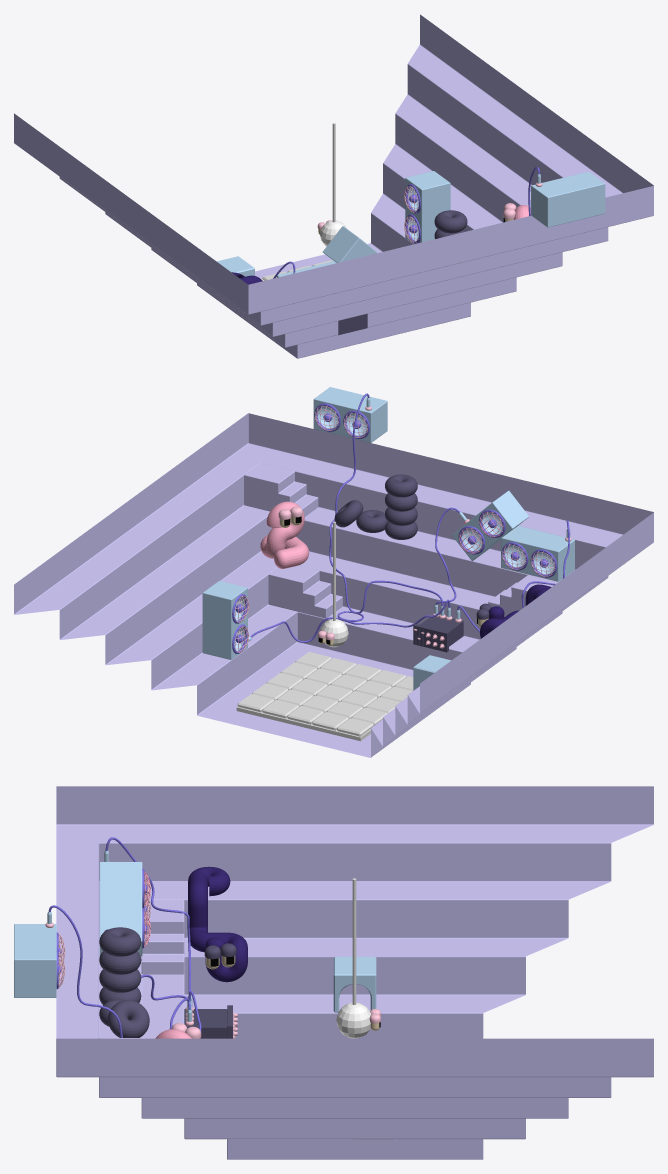
Rendered from area test 3.fbx.
3 views of the same model, one above another, from view 1: azimuth 30°, elevation 25°; view 2: azimuth 150°, elevation 25°; view 3: azimuth 270°, elevation 25° (orthographic). The views are drawn at different scales.
Parts seen in each view (by area): view 1: Cube.003, Cube.007, Cube.006, Cube.004, Torus.001, Torus.005; view 2: Cube.003, Cube.001, Cube.006, Cube.007, Cube.005, Cube.004, Torus.011, Torus.001, Cube.009, BezierCurve.002, Torus, Cube.002 (+9 smaller); view 3: Cube.003, Torus, Cube.007, Cube.004, Torus.001, Cube, Torus.003, Cube.009, Sphere, BezierCurve.002, Cylinder, BezierCurve.001.
Part boxes in pixels (box(x1,y1,x2,y2)): Cube.003: box(14, 14, 653, 358); Cube.007: box(531, 171, 605, 227); Cube.006: box(405, 171, 450, 244); Cube.004: box(322, 226, 377, 263); Torus.001: box(434, 210, 467, 238); Torus.005: box(405, 184, 420, 243); Cube.003: box(14, 413, 653, 757); Cube.001: box(237, 652, 413, 736); Cube.006: box(202, 581, 247, 659); Cube.007: box(313, 387, 387, 442); Cube.005: box(501, 526, 574, 581); Cube.004: box(452, 490, 528, 561); Torus.011: box(260, 501, 309, 568); Torus.001: box(385, 474, 417, 539); Cube.009: box(413, 617, 463, 652); BezierCurve.002: box(329, 393, 443, 621); Torus: box(480, 584, 551, 638); Cube.002: box(236, 706, 370, 741); Cube.003: box(56, 786, 653, 1159); Torus: box(188, 866, 247, 982); Cube.007: box(14, 924, 56, 997); Cube.004: box(99, 862, 142, 956); Torus.001: box(99, 927, 141, 1004); Cube: box(333, 957, 376, 1012); Torus.003: box(108, 1000, 149, 1037); Cube.009: box(184, 1005, 232, 1038); Sphere: box(336, 1002, 371, 1038); BezierCurve.002: box(48, 905, 189, 1037); Cylinder: box(352, 878, 356, 1004); BezierCurve.001: box(105, 837, 190, 994).
Bounding box in the file's own units: 7000 × 3285 × 7495.
